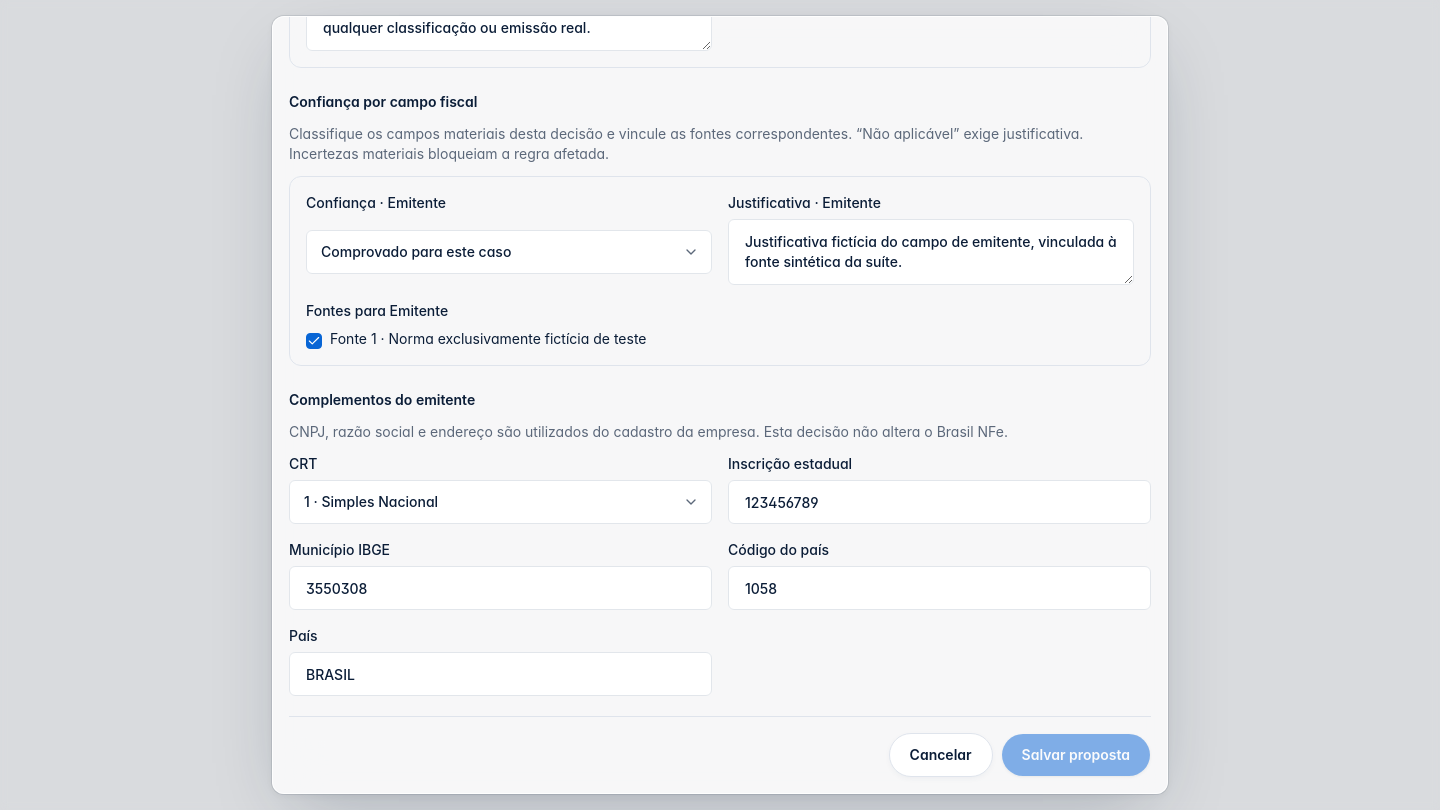
Test: erro de serviço mantém o preenchimento e não aprova o rascunho
(page scrolled)
Replace the text in the field labelled "Inscrição estadual" with "987654321" at (940, 502), box [728, 480, 1151, 524]
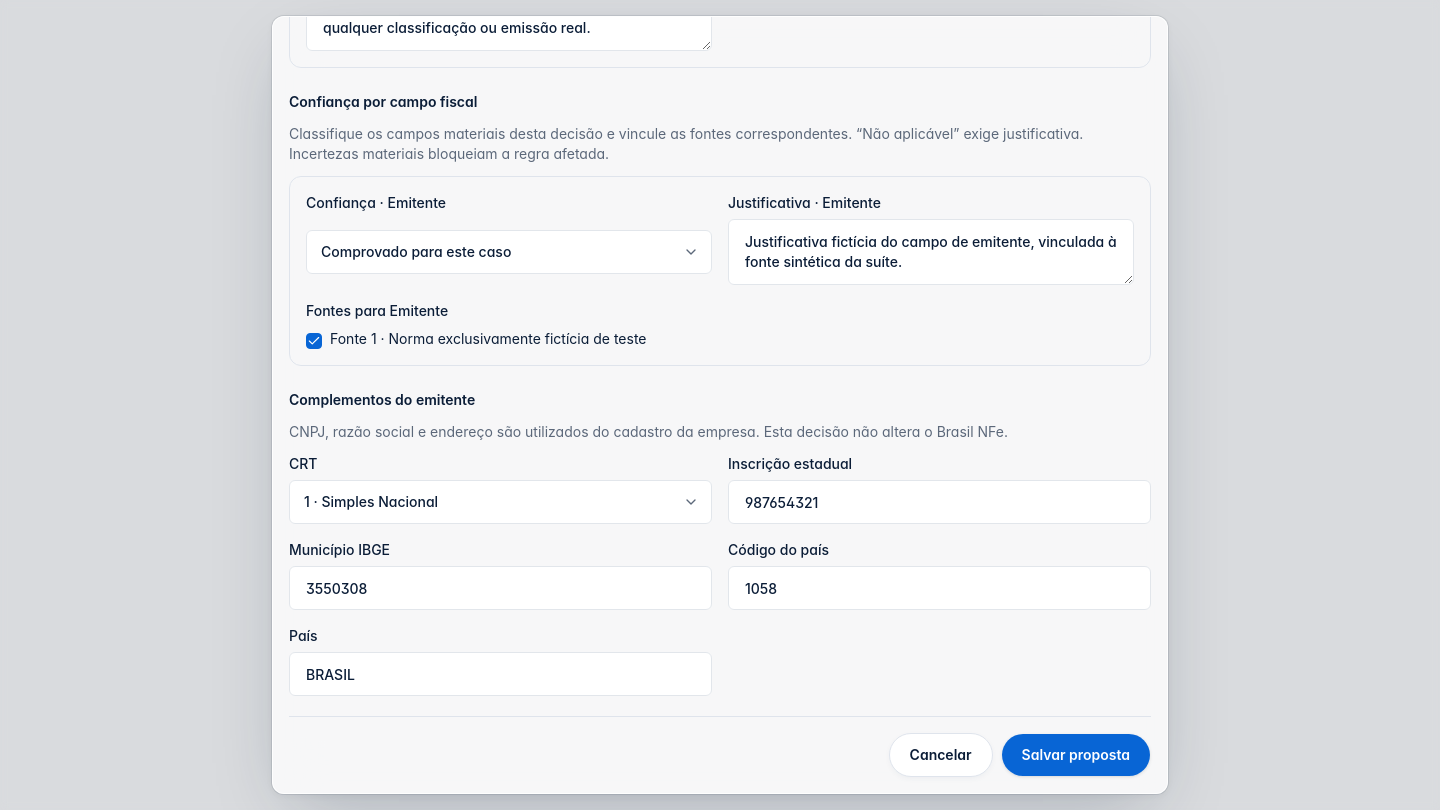
Click the button "Salvar proposta" at (1076, 755), box [1001, 733, 1151, 777]
(page scrolled)
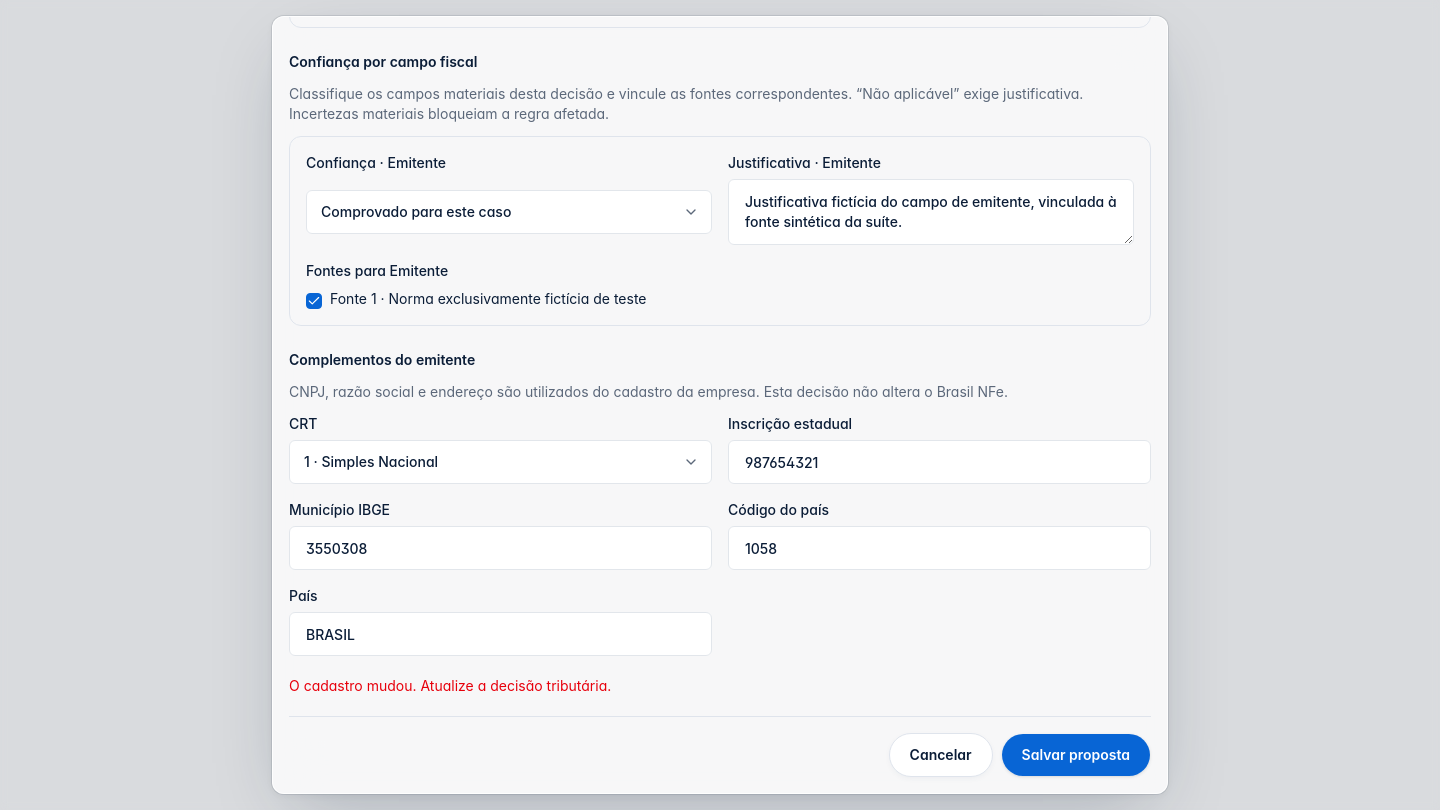
Check: the message "O cadastro mudou. Atualize a decisão tributária." is shown, box [289, 677, 611, 694]
